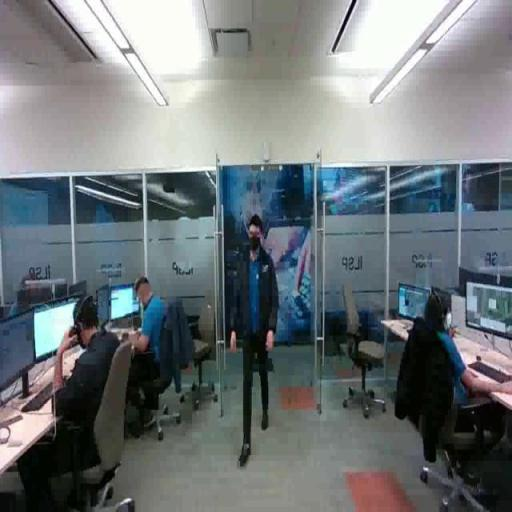person: (395, 289, 512, 477), (31, 303, 123, 512), (113, 277, 201, 442), (229, 215, 281, 470)
